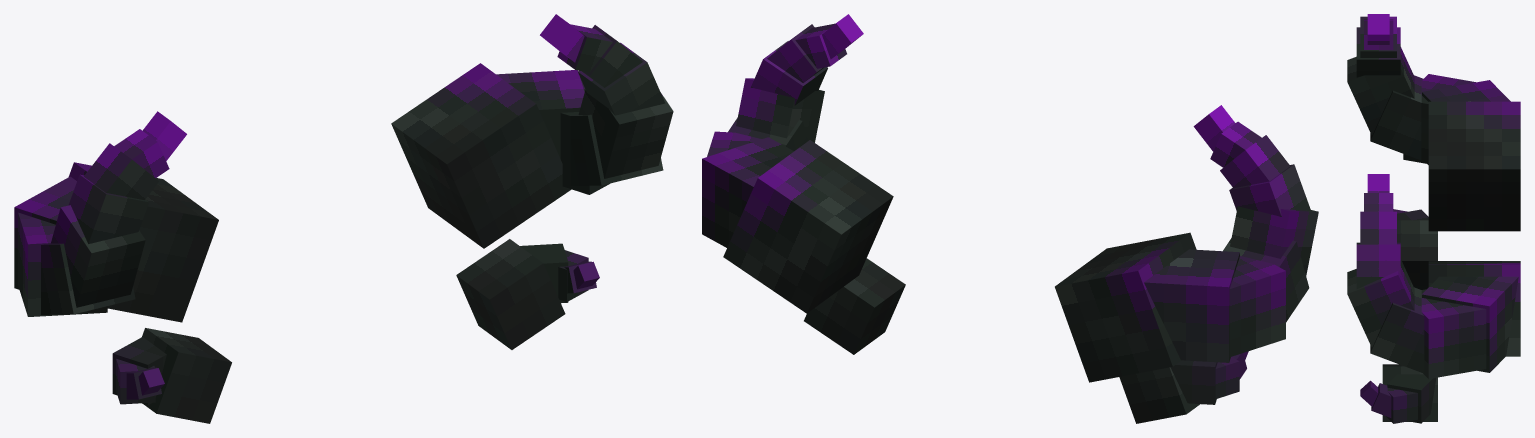
File: horns.glb
The picture shows the model from 3 angles, left to right: view 1: azimuth 30°, elevation 25°; view 2: azimuth 150°, elevation 25°; view 3: azimuth 270°, elevation 25°; orthographic projection. The views are drawn at different scales.
Visible parts, largest first — view 1: cube_22, cube_0, cube_2, cube_18, cube_8, cube_11, cube_10, cube_23, cube_3, cube_6, cube_13, cube_25 (+12 smaller); view 2: cube_22, cube_0, cube_1, cube_2, cube_23, cube_3, cube_8, cube_11, cube_18, cube_10, cube_12, cube_13 (+10 smaller); view 3: cube_0, cube_24, cube_23, cube_11, cube_25, cube_6, cube_8, cube_22, cube_18, cube_13, cube_1, cube_15 (+13 smaller).
Boxes of the visible parts, x1,y1,x2,y2 form: cube_22: (391,63,571,248); cube_0: (68,162,218,322); cube_2: (456,239,565,349); cube_18: (142,328,231,423); cube_8: (51,205,145,307); cube_11: (578,90,673,178); cube_10: (68,174,148,243); cube_23: (496,70,584,189); cube_3: (18,212,107,316); cube_6: (41,243,135,314); cube_13: (578,42,665,115); cube_25: (570,114,663,185); cube_22: (723,140,893,313); cube_0: (1055,232,1196,382); cube_1: (1144,249,1239,362); cube_2: (804,258,905,354); cube_23: (702,137,793,247); cube_3: (1229,256,1285,356); cube_8: (1230,206,1318,275); cube_11: (736,78,824,142); cube_18: (1119,367,1200,423); cube_10: (1229,164,1310,216); cube_12: (1220,135,1289,188); cube_13: (751,41,827,105); cube_0: (1428,101,1520,231); cube_24: (1421,289,1486,378); cube_23: (1422,276,1518,372); cube_11: (1347,259,1414,347); cube_25: (1370,287,1424,373); cube_6: (1370,75,1423,160); cube_8: (1347,47,1414,135); cube_22: (1428,261,1520,356); cube_18: (1397,220,1437,289); cube_13: (1356,242,1400,288); cube_1: (1422,80,1510,164); cube_15: (1360,211,1396,244).
Bounding box in the file's own units: 0.9863 × 0.4963 × 0.2948.
Materials: 1 (1 with a texture image).
